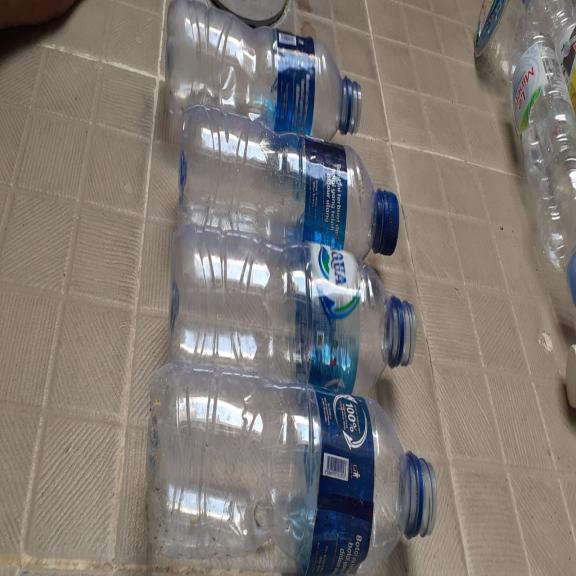Plastik: (145, 360, 444, 557), (165, 229, 414, 407), (177, 119, 399, 268), (165, 0, 360, 133), (510, 29, 576, 343)
